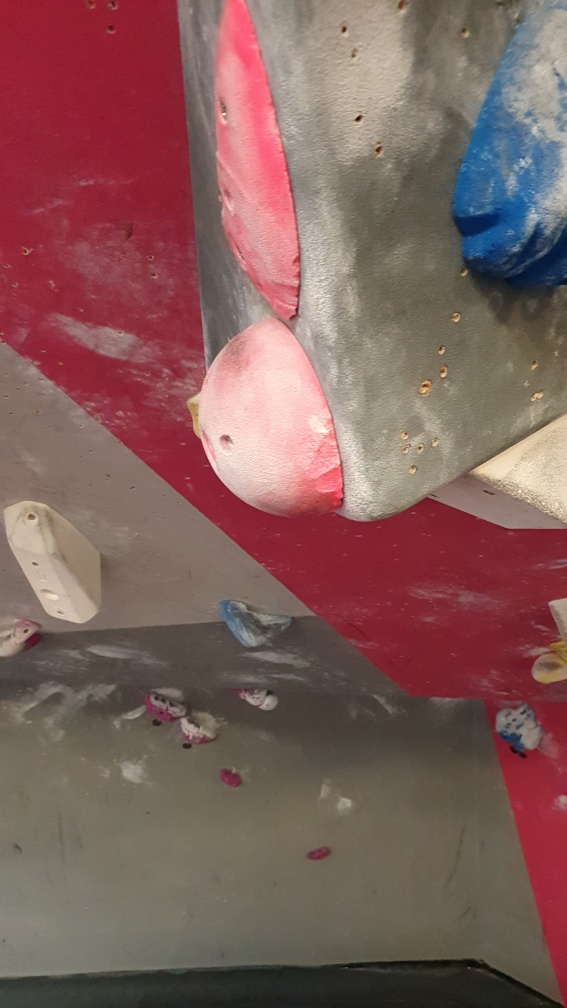Pinch: (3, 496, 106, 626)
Sloper: (198, 313, 345, 517)
